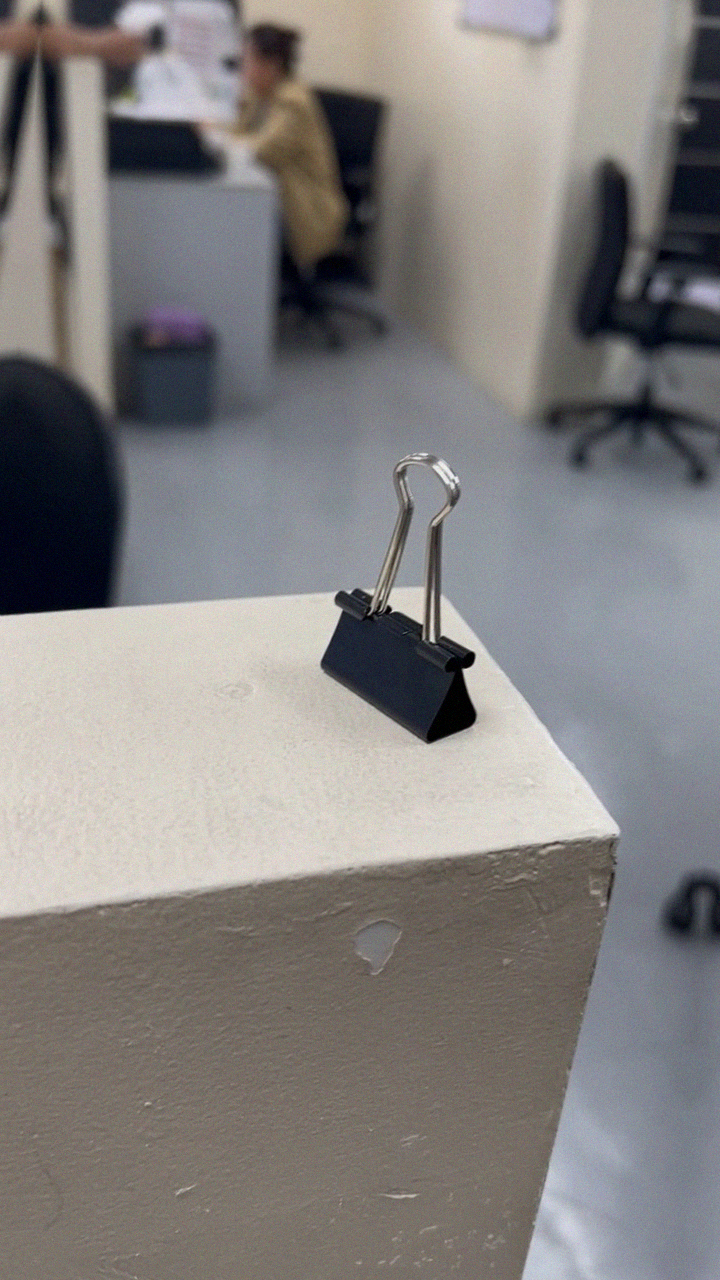kep_giay: (311, 443, 498, 751)
